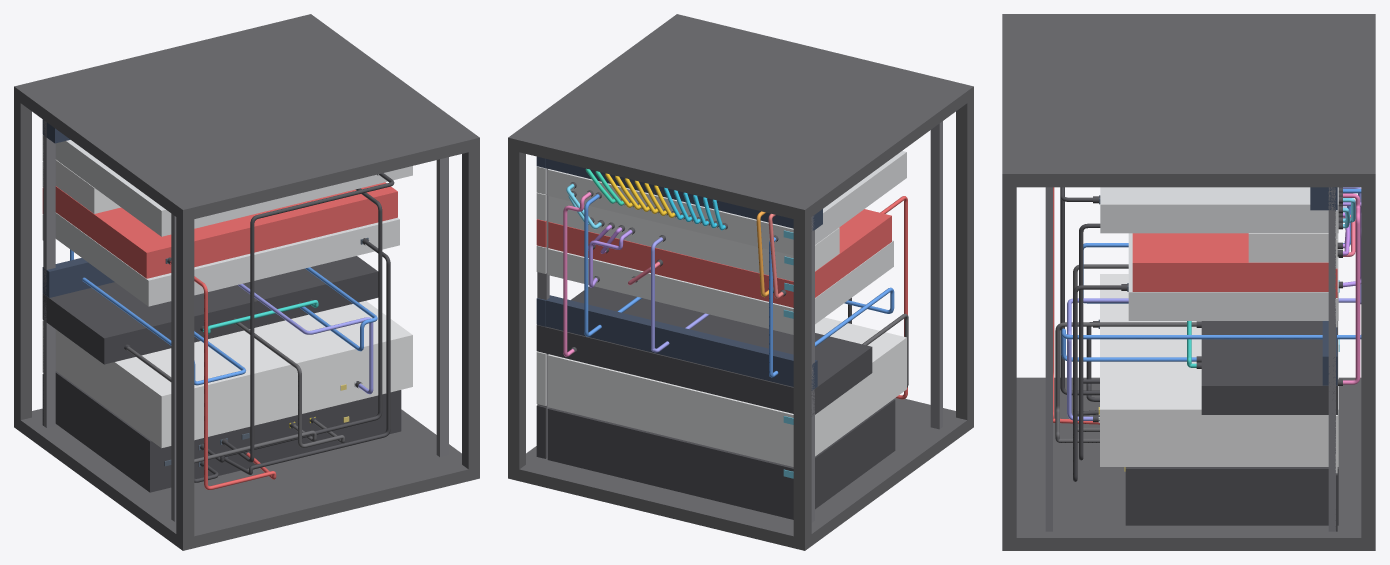
The model's file is rack-scene.glb.
3 renders of one model, left to right at view 1: azimuth 30°, elevation 25°; view 2: azimuth 150°, elevation 25°; view 3: azimuth 270°, elevation 25°, orthographic. The views are drawn at different scales.
Visible parts, largest first — view 1: RackRoofFrame, Device_nas-storage-01, RackBaseFrame, Device_carrier-compute-u5, Device_ups-core-01, Device_fw-ngfw-01, Device_udm-pro-sec-01, RackCornerPost_RL, RackCornerPost_RR, RackCornerPost_FL, Device_sw-poe-core-01, RackRail_RR (+13 smaller); view 2: RackRoofFrame, Device_nas-storage-01, Device_ups-core-01, RackBaseFrame, Device_carrier-compute-u5, Device_fw-ngfw-01, Device_udm-pro-sec-01, Device_brush-portal-u6, Device_sw-poe-core-01, RackCornerPost_FL, Device_sw-core-agg-01, RackCornerPost_FR (+12 smaller); view 3: RackRoofFrame, RackBaseFrame, Device_nas-storage-01, Device_ups-core-01, Device_carrier-compute-u5, Device_sw-poe-core-01, Device_fw-ngfw-01, Device_udm-pro-sec-01, RackCornerPost_RR, RackCornerPost_FR, RackRail_RR, RackRail_FR (+11 smaller).
Boxes of the visible parts, left/top/right/bottom form: RackRoofFrame: left=14, top=14, right=479, bottom=220; Device_nas-storage-01: left=55, top=301, right=412, bottom=448; RackBaseFrame: left=14, top=408, right=479, bottom=550; Device_carrier-compute-u5: left=42, top=256, right=378, bottom=364; Device_ups-core-01: left=55, top=371, right=401, bottom=492; Device_fw-ngfw-01: left=55, top=182, right=397, bottom=278; Device_udm-pro-sec-01: left=55, top=212, right=399, bottom=306; RackCornerPost_RL: left=176, top=203, right=194, bottom=550; RackCornerPost_RR: left=462, top=133, right=479, bottom=480; RackCornerPost_FL: left=14, top=83, right=31, bottom=431; Device_sw-poe-core-01: left=55, top=140, right=412, bottom=236; RackRail_RR: left=436, top=157, right=448, bottom=456; RackRoofFrame: left=508, top=15, right=967, bottom=220; Device_nas-storage-01: left=547, top=317, right=906, bottom=466; Device_ups-core-01: left=547, top=399, right=895, bottom=519; RackBaseFrame: left=508, top=398, right=967, bottom=550; Device_carrier-compute-u5: left=536, top=286, right=872, bottom=414; Device_fw-ngfw-01: left=548, top=209, right=891, bottom=307; Device_udm-pro-sec-01: left=547, top=240, right=893, bottom=334; Device_brush-portal-u6: left=546, top=295, right=817, bottom=390; Device_sw-poe-core-01: left=547, top=151, right=906, bottom=255; RackCornerPost_FL: left=793, top=203, right=811, bottom=550; Device_sw-core-agg-01: left=548, top=196, right=839, bottom=281; RackCornerPost_FR: left=508, top=133, right=525, bottom=480; RackRoofFrame: left=1002, top=14, right=1375, bottom=187; RackBaseFrame: left=1002, top=377, right=1375, bottom=550; Device_nas-storage-01: left=1100, top=274, right=1338, bottom=466; Device_ups-core-01: left=1125, top=467, right=1338, bottom=525; Device_carrier-compute-u5: left=1201, top=321, right=1337, bottom=414; Device_sw-poe-core-01: left=1100, top=187, right=1338, bottom=233; Device_fw-ngfw-01: left=1132, top=233, right=1328, bottom=291; Device_udm-pro-sec-01: left=1128, top=233, right=1338, bottom=320; RackCornerPost_RR: left=1002, top=168, right=1016, bottom=550; RackCornerPost_FR: left=1361, top=168, right=1375, bottom=550; RackRail_RR: left=1045, top=187, right=1052, bottom=531; RackRail_FR: left=1328, top=187, right=1335, bottom=531.
Bounding box in the file's own units: 0.5226 × 0.5734 × 0.515.
